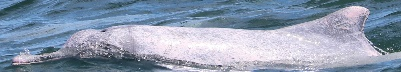fin: (10, 3, 390, 69)
